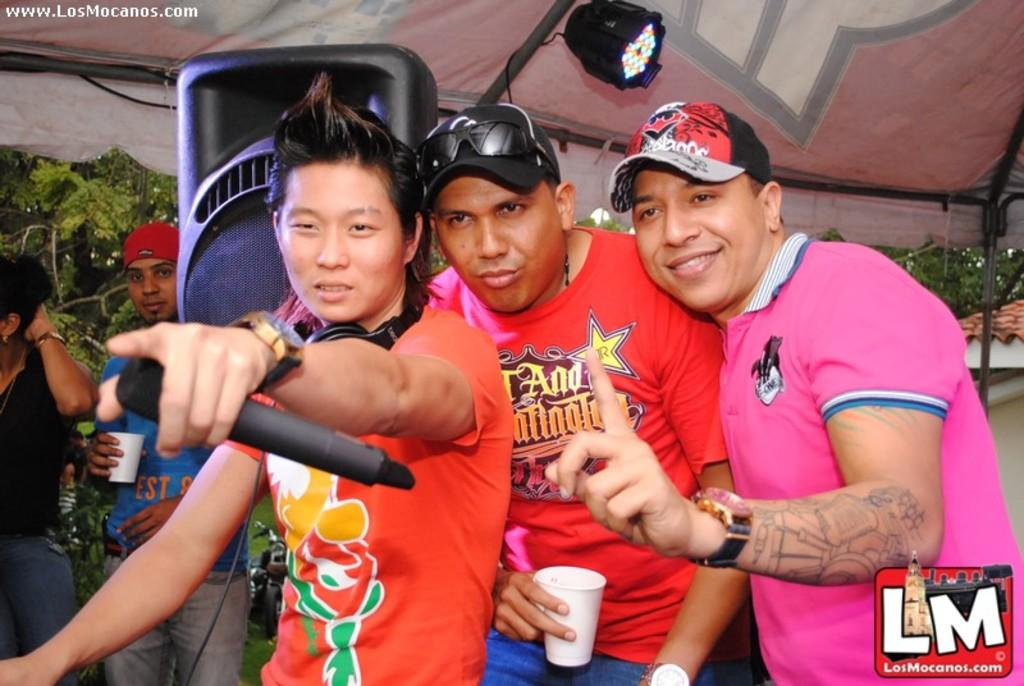Hat: (610, 102, 766, 218)
